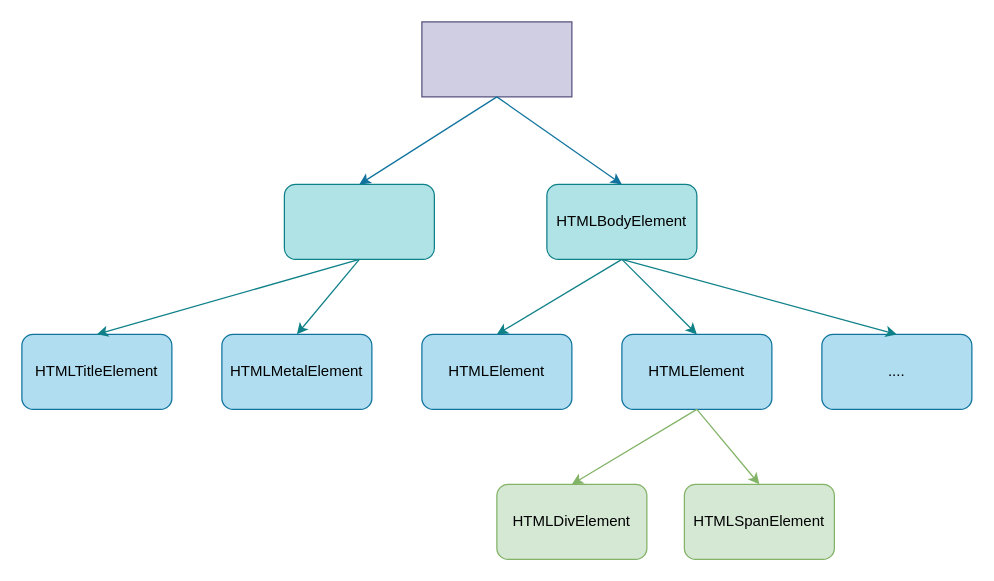
The diagram is 994 pixels wide and 581 high, and some of its shapes have lost their labels. The box of each missing label's shape, as (x1, y1, x2, y2) in pixels:
HTMLHeadElement: (283, 183, 434, 259)
HTMLHtmlElement: (421, 21, 572, 97)
